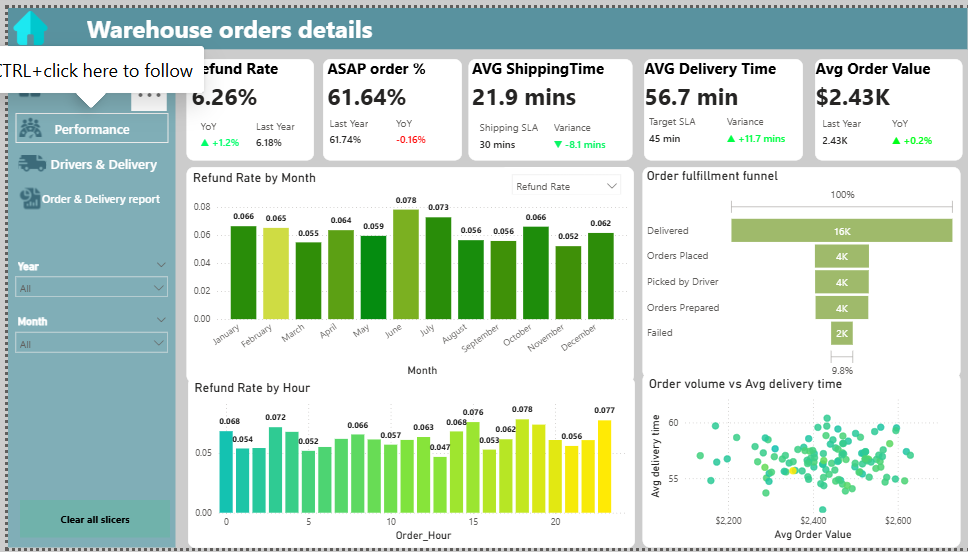

The dashboard page shown, as its layout file describes it:
{"tool":"powerbi","page":{"name":"Performance","canvas":[1280,720],"ordinal":2},"visuals":[{"type":"cardVisual","fields":{"Data":["Area Metric Table.Avg Delivery Time Display"]},"box":[848.3,68.3,211.7,135],"z":0},{"type":"cardVisual","fields":{"Data":["Area Metric Table.Avg Shipping Time Display"]},"box":[613.3,68.3,218.3,135],"z":1000},{"type":"cardVisual","fields":{"Data":["Area Metric Table.Avg Order Value"]},"box":[1075,68.3,196.7,135],"z":2000},{"type":"cardVisual","fields":{"Data":["Area Metric Table.ASAP order %"]},"box":[420,68.3,185,135],"z":3000},{"type":"cardVisual","fields":{"Data":["Area Metric Table.Refund Rate"]},"box":[238.3,68.3,170,135],"z":4000},{"type":"columnChart","fields":{"Category":["DateTable.Date.Variation.Date Hierarchy.Month"],"Y":["Area Metric Table.Selected Performance Metric"]},"box":[237.6,212.9,596.8,288.2],"z":5000},{"type":"slicer","fields":{"Values":["Performance Metric Table.Metric"]},"box":[662.4,212.9,165.6,36.6],"z":6000},{"type":"columnChart","fields":{"Category":["Orders.Order_Hour"],"Y":["Area Metric Table.Selected Performance Metric"]},"box":[239.6,492.2,595.9,228.3],"z":7000},{"type":"scatterChart","title":"Order volume vs Avg delivery time","fields":{"X":["Customers.Avg Order Value"],"Y":["Customers.Avg delivery time"],"Category":["Orders.Shop_Name"]},"box":[846.9,486.8,424.2,233.2],"z":7500},{"type":"funnel","title":"Order fulfillment funnel","fields":{"Category":["Fulfillment Funnel.Stage"],"Y":["Customers.Funnel Value"]},"box":[846.9,212.1,424.2,281.7],"z":8000},{"type":"shape","box":[0,53.4,223.5,665.5],"z":10000},{"type":"actionButton","box":[10,84.3,204.3,40],"z":11000},{"type":"actionButton","box":[10,140,204.3,40],"z":12000},{"type":"slicer","fields":{"Values":["DateTable.Date.Variation.Date Hierarchy.Year"]},"box":[0,330,223.3,56.7],"z":13000},{"type":"slicer","fields":{"Values":["DateTable.Date.Variation.Date Hierarchy.Month"]},"box":[0,403.3,223.3,56.7],"z":14000},{"type":"actionButton","box":[15,655,200,50],"z":15000},{"type":"shape","box":[0,0,1279.2,55.1],"z":16000},{"type":"image","box":[4.5,4.5,52.3,45.5],"z":17000},{"type":"actionButton","box":[10,191.4,204.3,40],"z":18000},{"type":"actionButton","box":[10.6,234.6,203.8,40.4],"z":19000},{"type":"textbox","box":[100.4,0,424.2,68],"z":20000}]}

Visuals, with their boxes on the page's 1280x720 design canvas (x1, y1, x2, y2). These are canvas units, not pixel positions in the 968x552 screenshot, which may show the page scaled, cropped or inside an application window:
cardVisual - Area Metric Table.Avg Delivery Time Display: (x1=848, y1=68, x2=1060, y2=203)
cardVisual - Area Metric Table.Avg Shipping Time Display: (x1=613, y1=68, x2=832, y2=203)
cardVisual - Area Metric Table.Avg Order Value: (x1=1075, y1=68, x2=1272, y2=203)
cardVisual - Area Metric Table.ASAP order %: (x1=420, y1=68, x2=605, y2=203)
cardVisual - Area Metric Table.Refund Rate: (x1=238, y1=68, x2=408, y2=203)
columnChart - DateTable.Date.Variation.Date Hierarchy.Month x Area Metric Table.Selected Performance Metric: (x1=238, y1=213, x2=834, y2=501)
slicer - Performance Metric Table.Metric: (x1=662, y1=213, x2=828, y2=250)
columnChart - Orders.Order_Hour x Area Metric Table.Selected Performance Metric: (x1=240, y1=492, x2=836, y2=720)
"Order volume vs Avg delivery time" scatterChart: (x1=847, y1=487, x2=1271, y2=720)
"Order fulfillment funnel" funnel: (x1=847, y1=212, x2=1271, y2=494)
shape: (x1=0, y1=53, x2=224, y2=719)
actionButton: (x1=10, y1=84, x2=214, y2=124)
actionButton: (x1=10, y1=140, x2=214, y2=180)
slicer - DateTable.Date.Variation.Date Hierarchy.Year: (x1=0, y1=330, x2=223, y2=387)
slicer - DateTable.Date.Variation.Date Hierarchy.Month: (x1=0, y1=403, x2=223, y2=460)
actionButton: (x1=15, y1=655, x2=215, y2=705)
shape: (x1=0, y1=0, x2=1279, y2=55)
image: (x1=4, y1=4, x2=57, y2=50)
actionButton: (x1=10, y1=191, x2=214, y2=231)
actionButton: (x1=11, y1=235, x2=214, y2=275)
textbox: (x1=100, y1=0, x2=525, y2=68)
